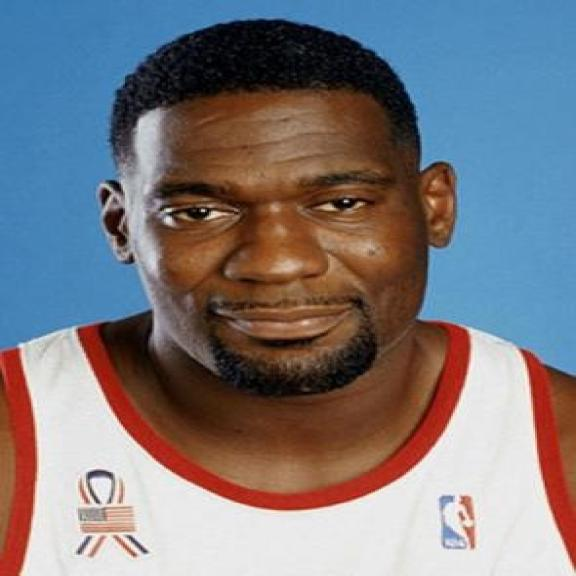face: (91, 88, 466, 398)
